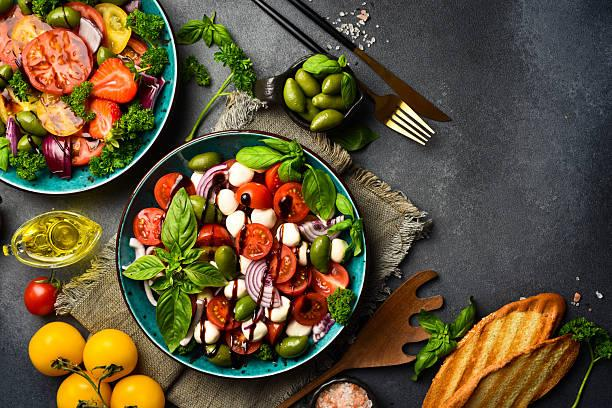Braised Crucian Carp: (115, 131, 361, 375), (2, 1, 179, 197)
